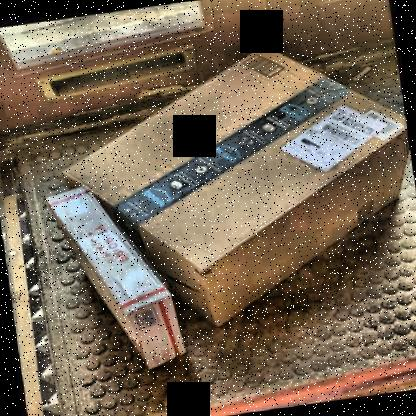no defect parcel: (43, 0, 416, 368), (4, 164, 220, 394)
